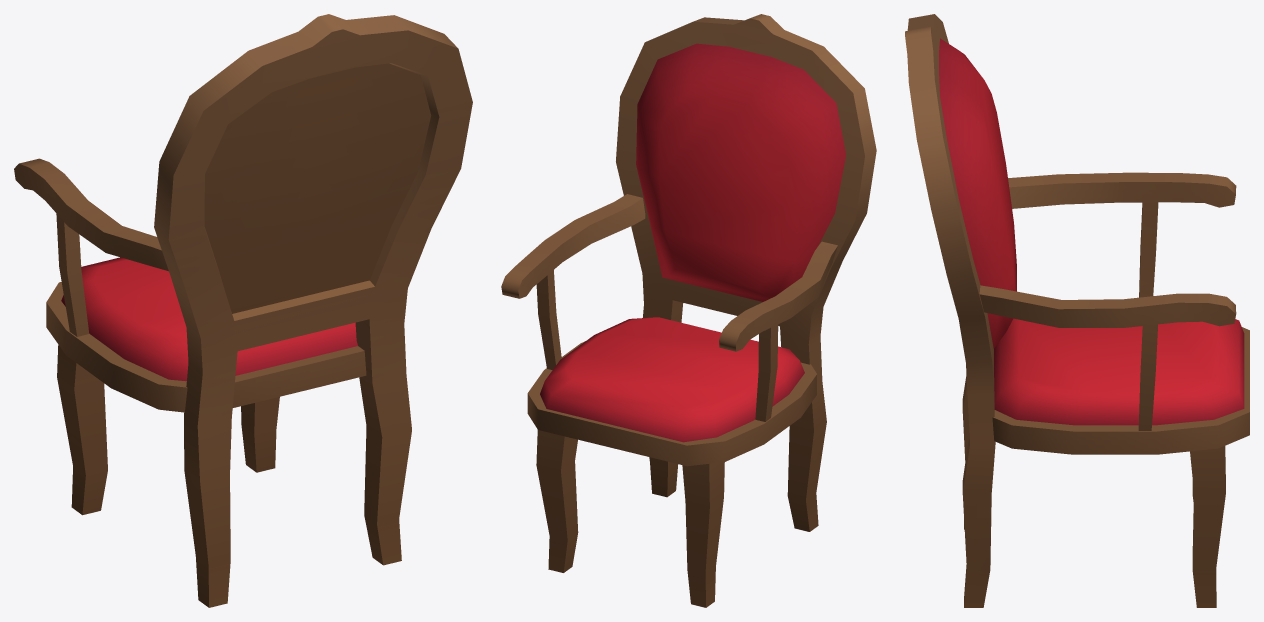
File: Chair2.fbx
3 renders of one model, left to right at view 1: azimuth 30°, elevation 25°; view 2: azimuth 150°, elevation 25°; view 3: azimuth 270°, elevation 25°, orthographic. The views are drawn at different scales.
Parts seen in each view (by area): view 1: Chair2; view 2: Chair2; view 3: Chair2.
Boxes of the visible parts, bbox=[...] form: Chair2: bbox=[14, 14, 472, 607]; Chair2: bbox=[501, 14, 876, 607]; Chair2: bbox=[905, 14, 1249, 607].
Bounding box in the file's own units: 59.45 × 109 × 63.83.
